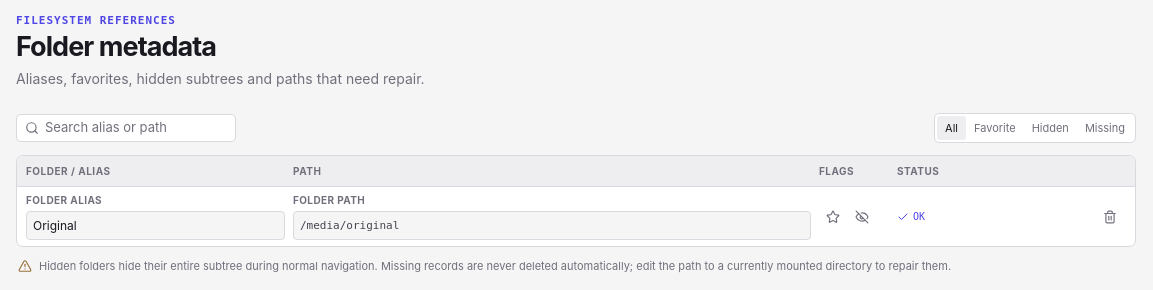
Test: FolderManagerPage row editing › keeps an update error on the affected row
Replace the text in the field named "Alias for /media/original" with "Broken" at (156, 226), box [26, 211, 285, 240]
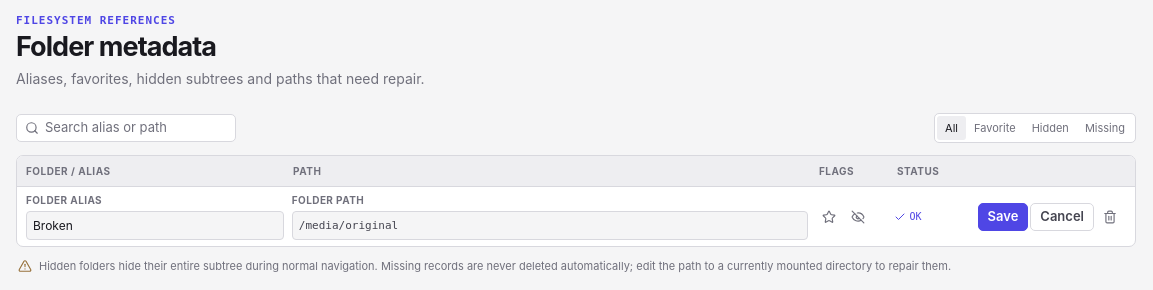
Click the button "Save" at (1003, 216), box [978, 202, 1028, 230]
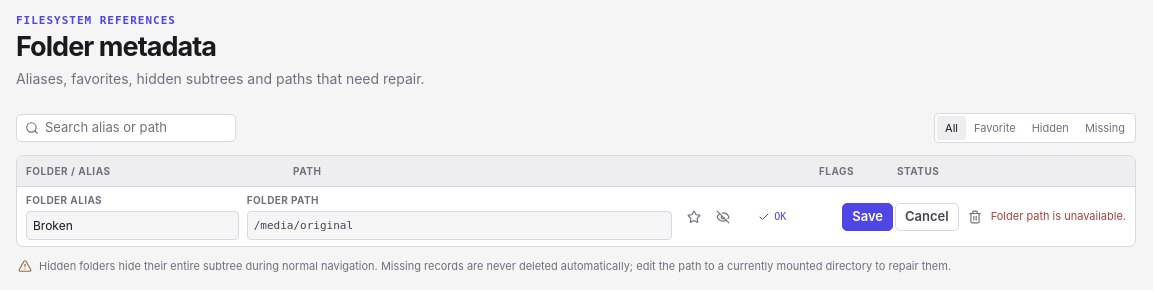
Check: the message reads "Folder path is unavailable.", box [991, 209, 1126, 223]
